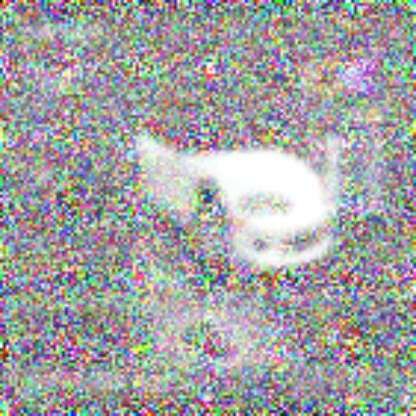Vehicle: (130, 105, 336, 279)
